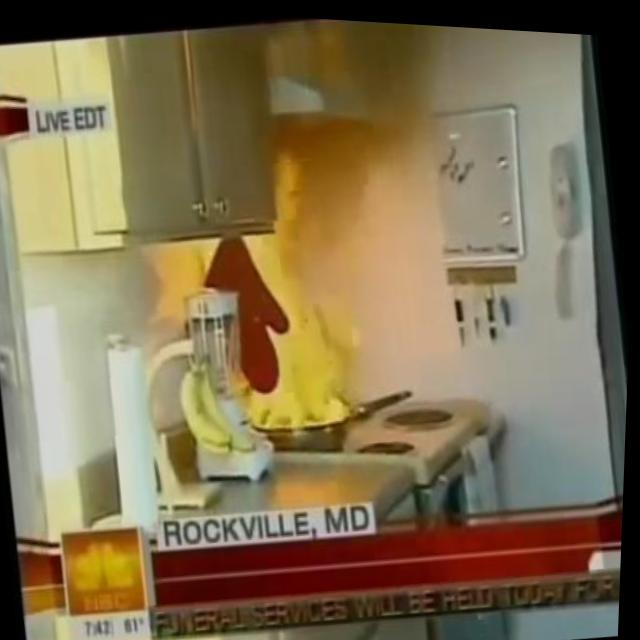fire: (186, 125, 370, 437)
